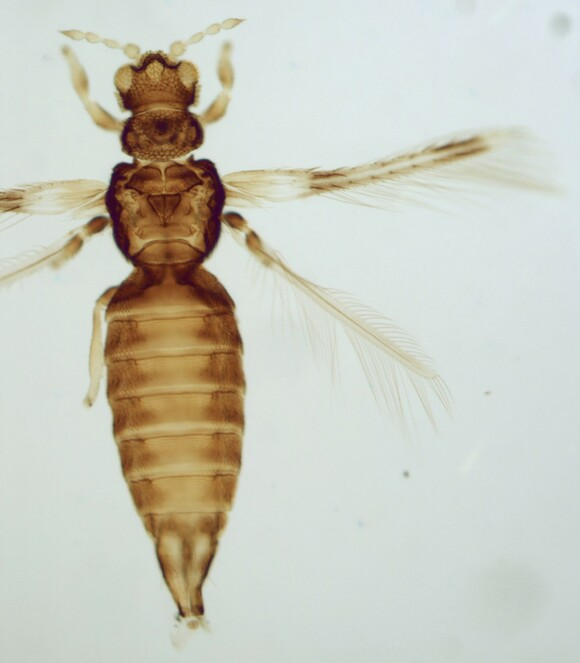Thripidae: (1, 27, 546, 644)
